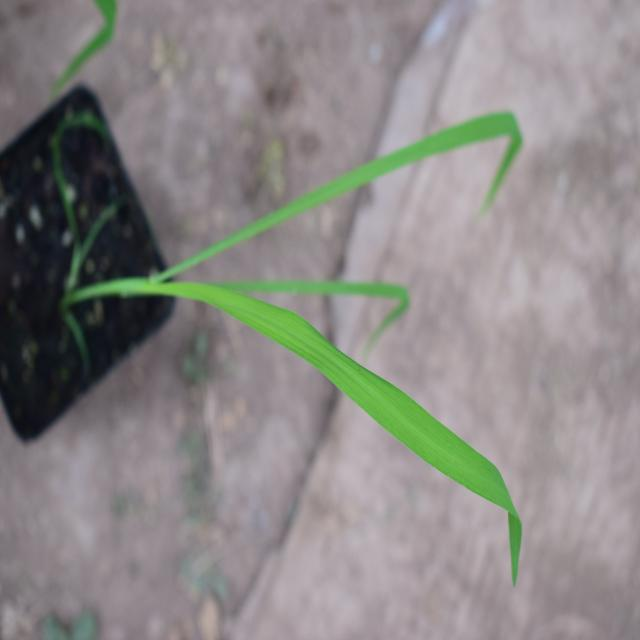barnyard_grass: (89, 67, 550, 551)
